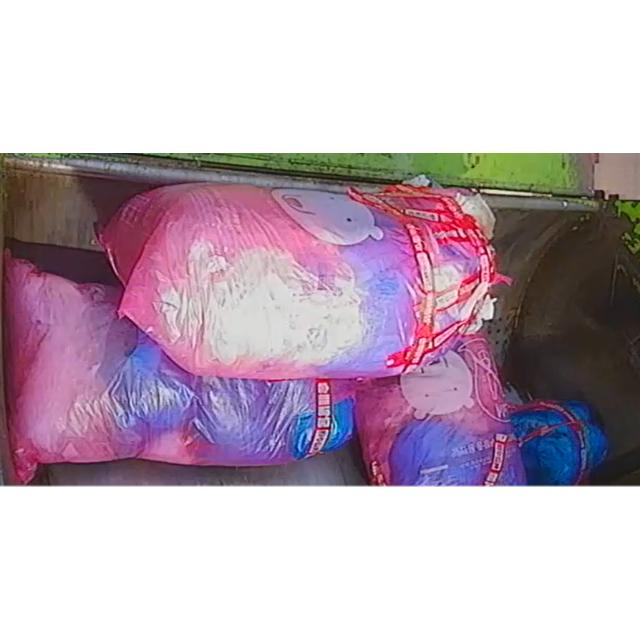other_trashbag: (5, 249, 354, 483), (101, 184, 504, 379), (358, 336, 526, 485), (510, 400, 608, 486)
